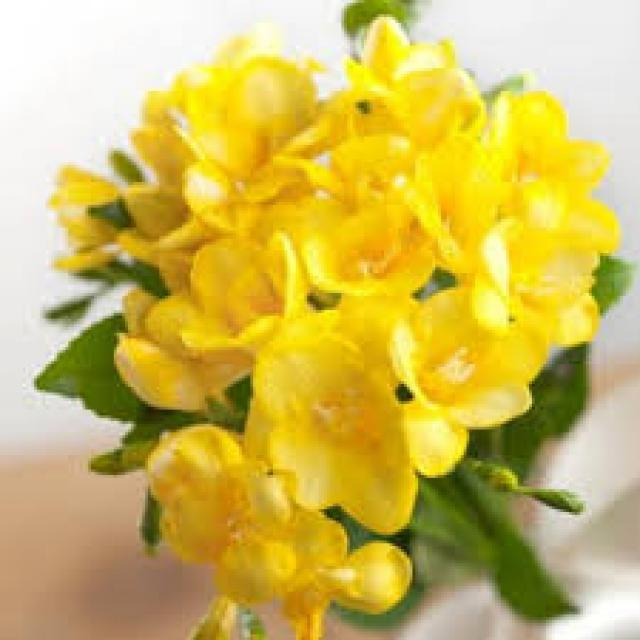freesia: (423, 87, 630, 363), (161, 435, 409, 622), (245, 297, 445, 526), (129, 50, 324, 245), (388, 259, 536, 443), (303, 178, 447, 301), (356, 32, 494, 156), (178, 234, 312, 355)
